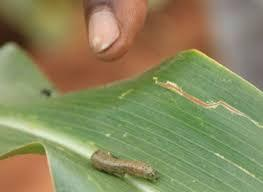fallarmy_worm: (91, 145, 163, 183)
